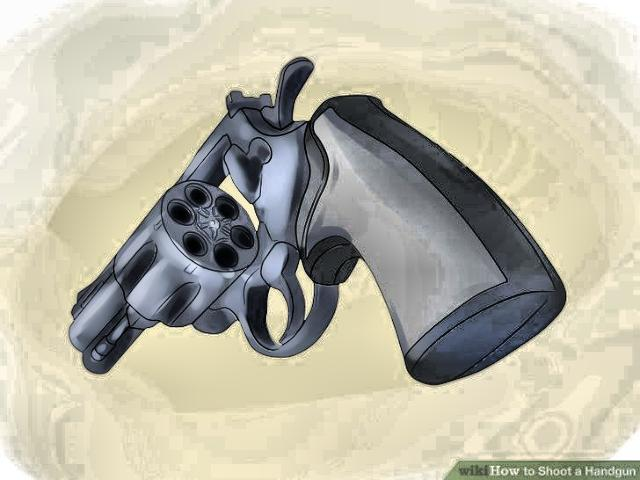pistol: (67, 54, 551, 388)
